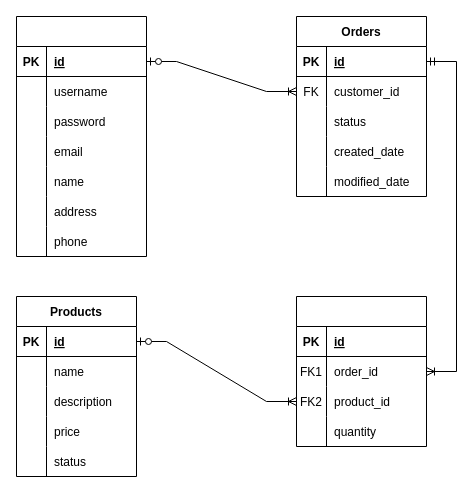
Image size: 473x493. Some labels were removed from this diagram. Each missing label, with the box of its shape:
Customers: (16, 16, 146, 256)
Order_Items: (296, 296, 426, 446)
